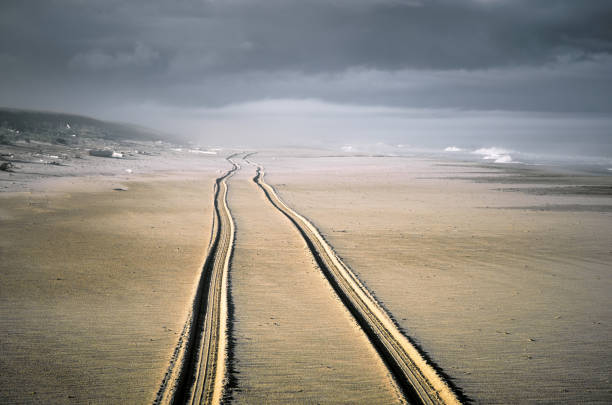vehicle_track: (253, 165, 460, 403), (154, 155, 238, 404)
